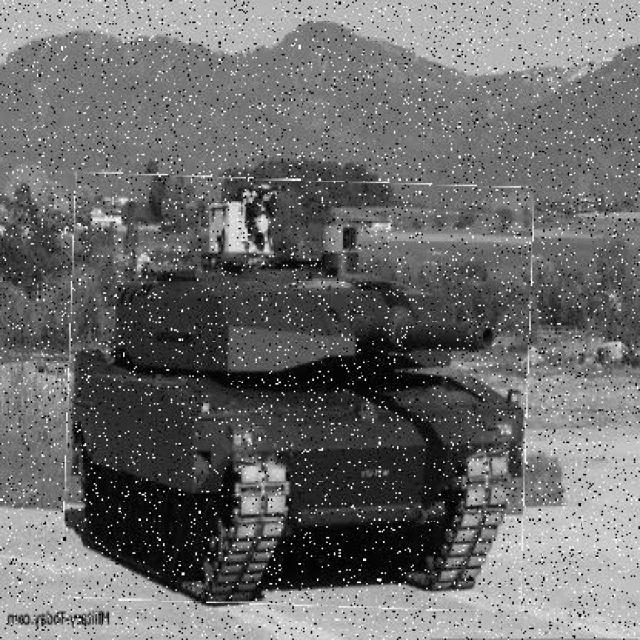Tank: (66, 178, 532, 610)
